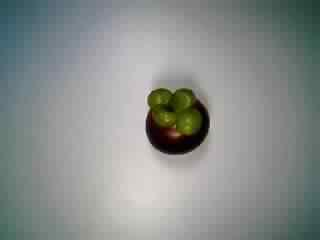mangosteen: (134, 82, 217, 157)
